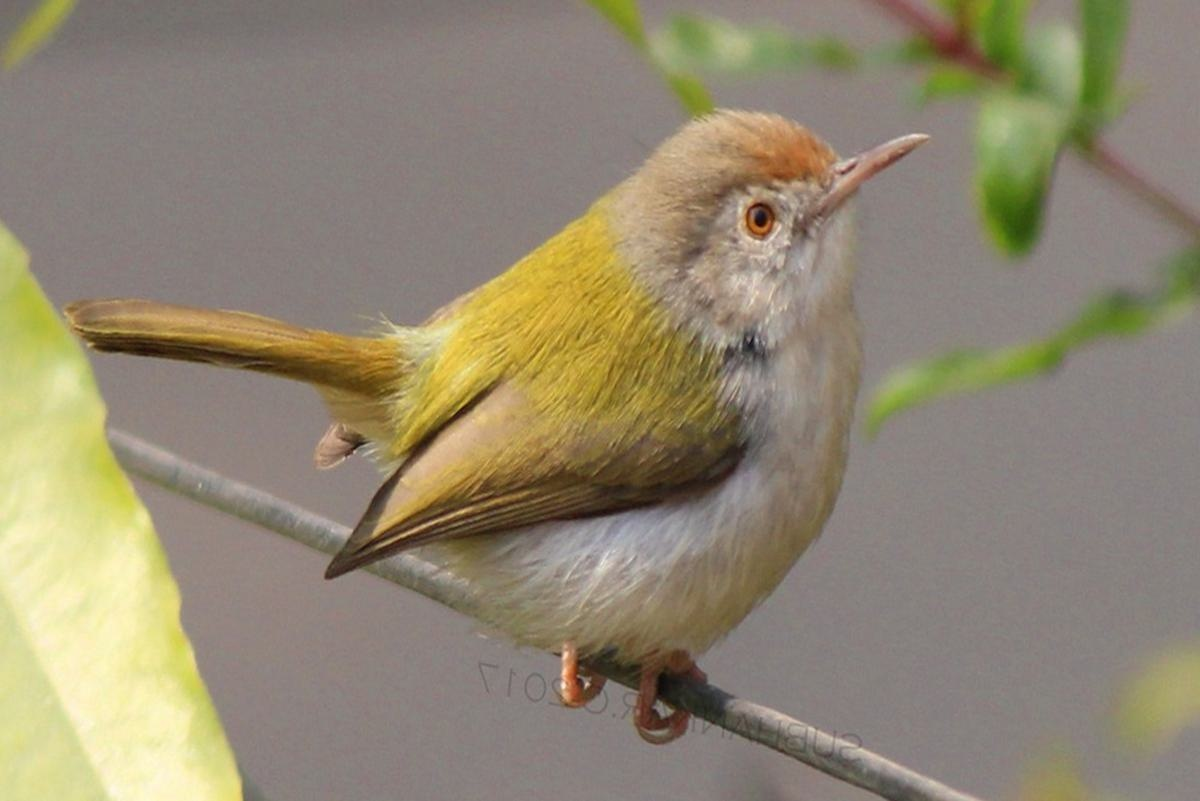tailorbird: (50, 106, 964, 731)
